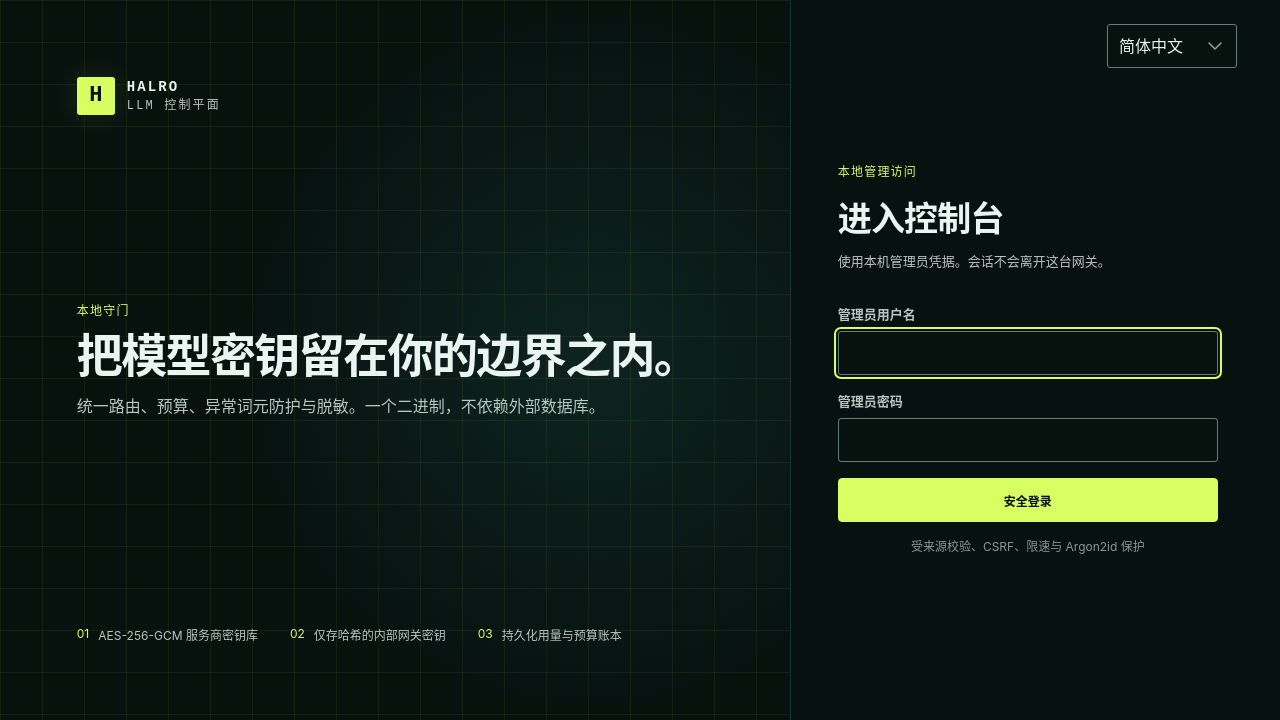
Scenario: Login › clears credentials for the MFA step and only returns after challenge cancellation succeeds
In the field labelled "管理员用户名": (1028, 353) top-left (838, 331), bottom-right (1218, 375), type "admin"
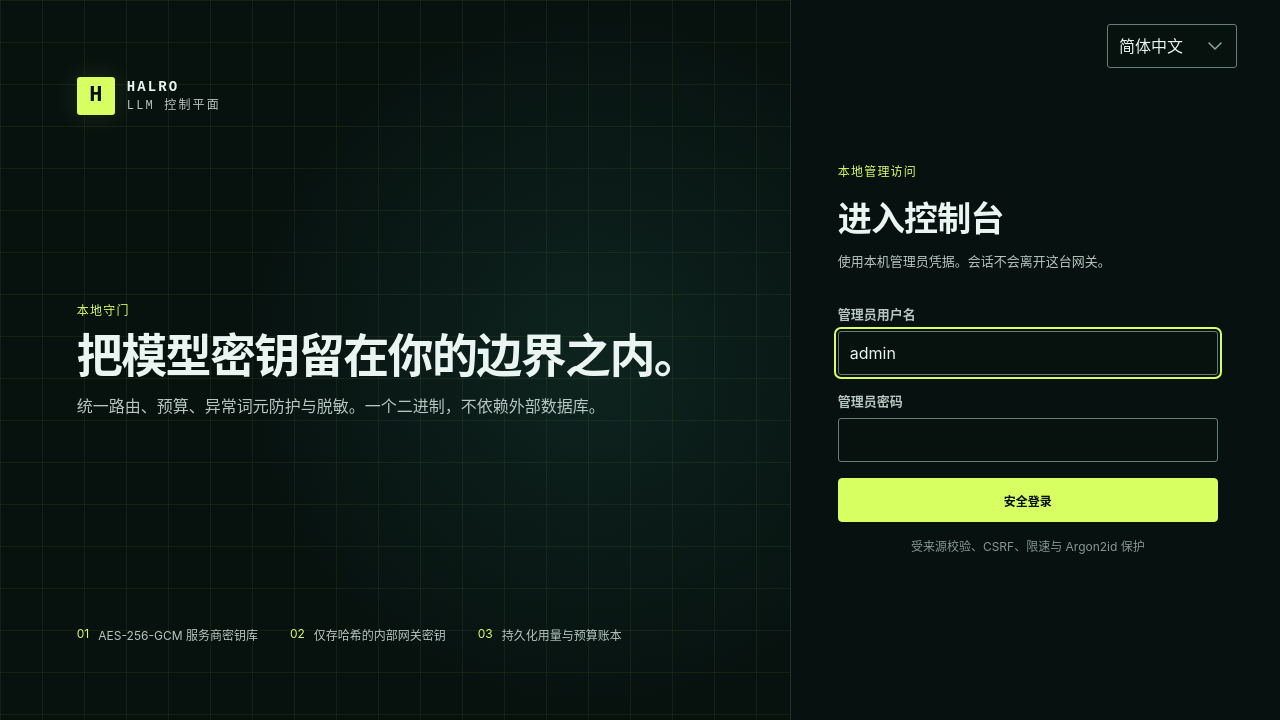
In the password field labelled "管理员密码": (1028, 440) top-left (838, 418), bottom-right (1218, 462), type "secret password"
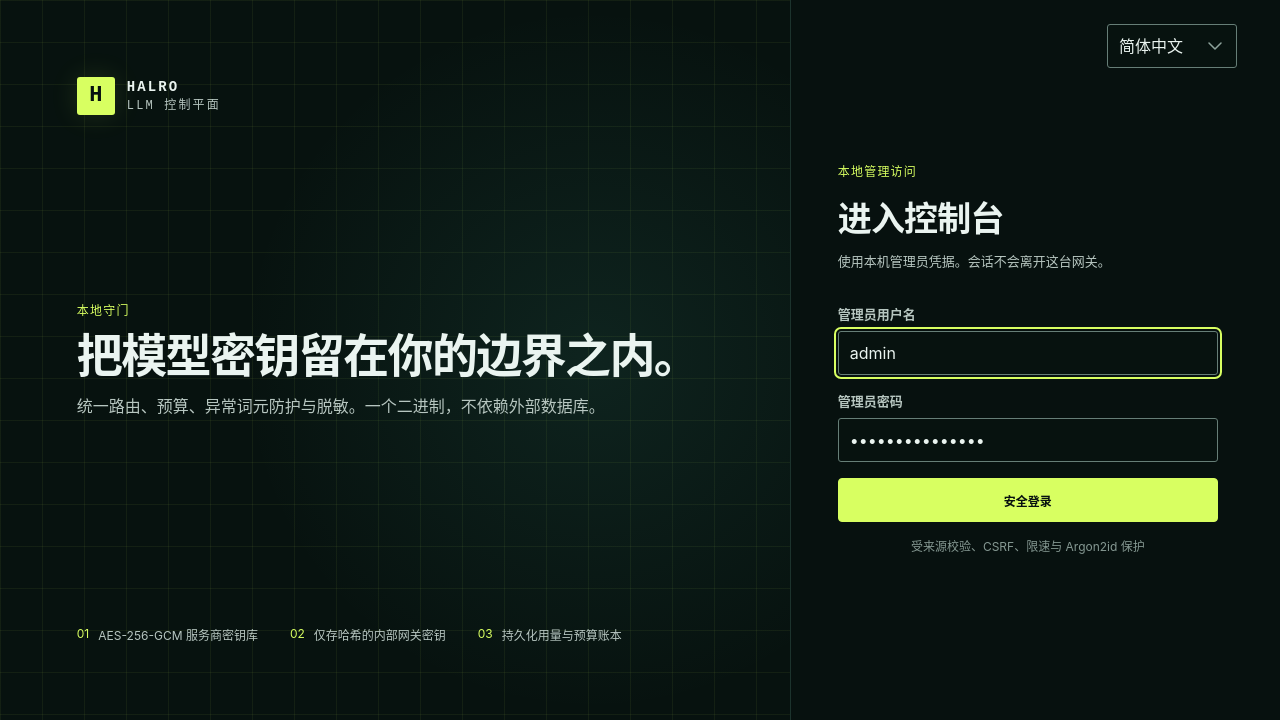
Click the button "安全登录": (1028, 500) top-left (838, 478), bottom-right (1218, 522)
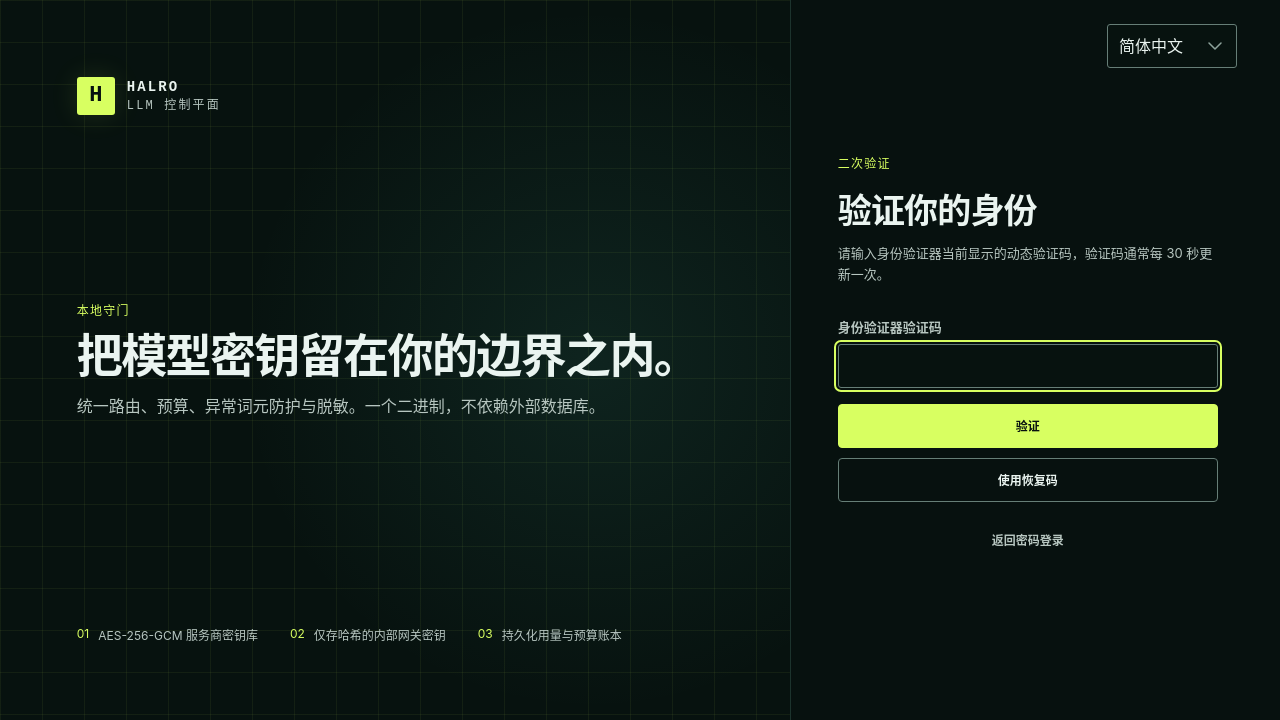
Expected: the heading "验证你的身份" is shown, top-left (838, 190), bottom-right (1037, 231)
Expected: the password field showing "secret password" is gone
Click the button "返回密码登录": (1028, 540) top-left (838, 518), bottom-right (1218, 562)
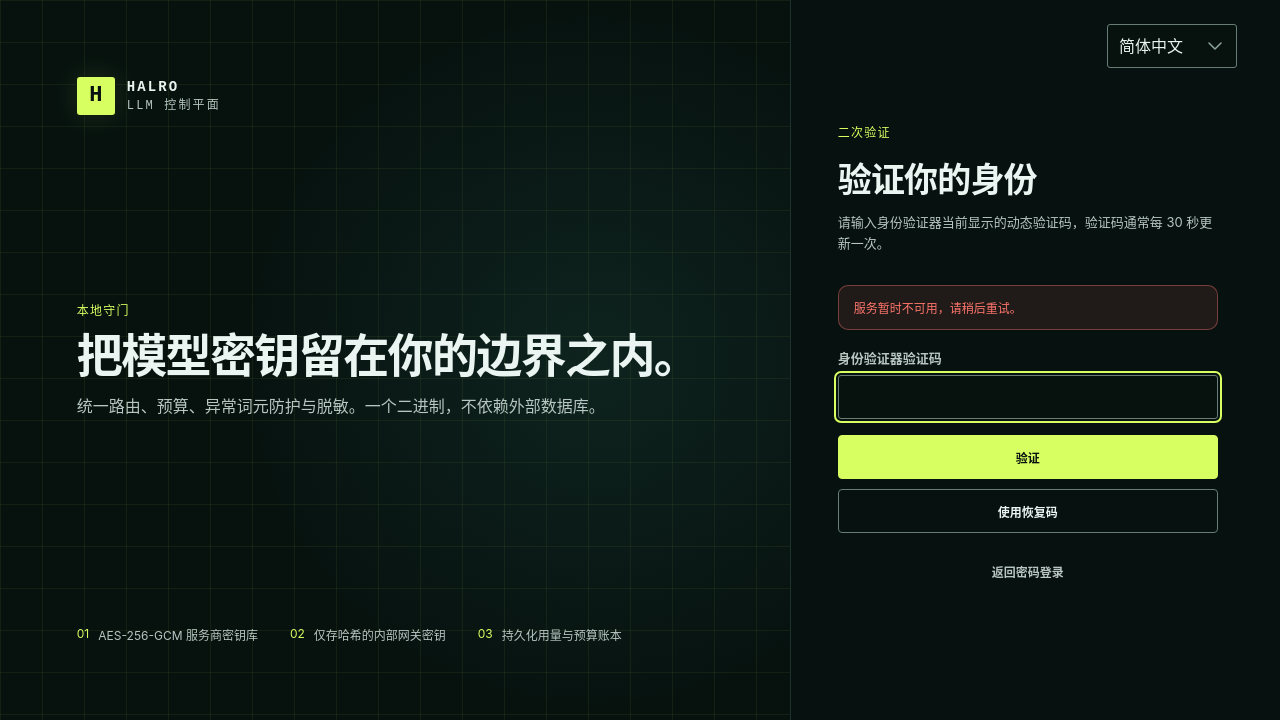
Expected: the heading "验证你的身份" is shown, top-left (838, 159), bottom-right (1037, 200)
Expected: the message "服务暂时不可用，请稍后重试。" is shown, top-left (838, 286), bottom-right (1218, 330)
Click the button "返回密码登录": (1028, 572) top-left (838, 550), bottom-right (1218, 594)
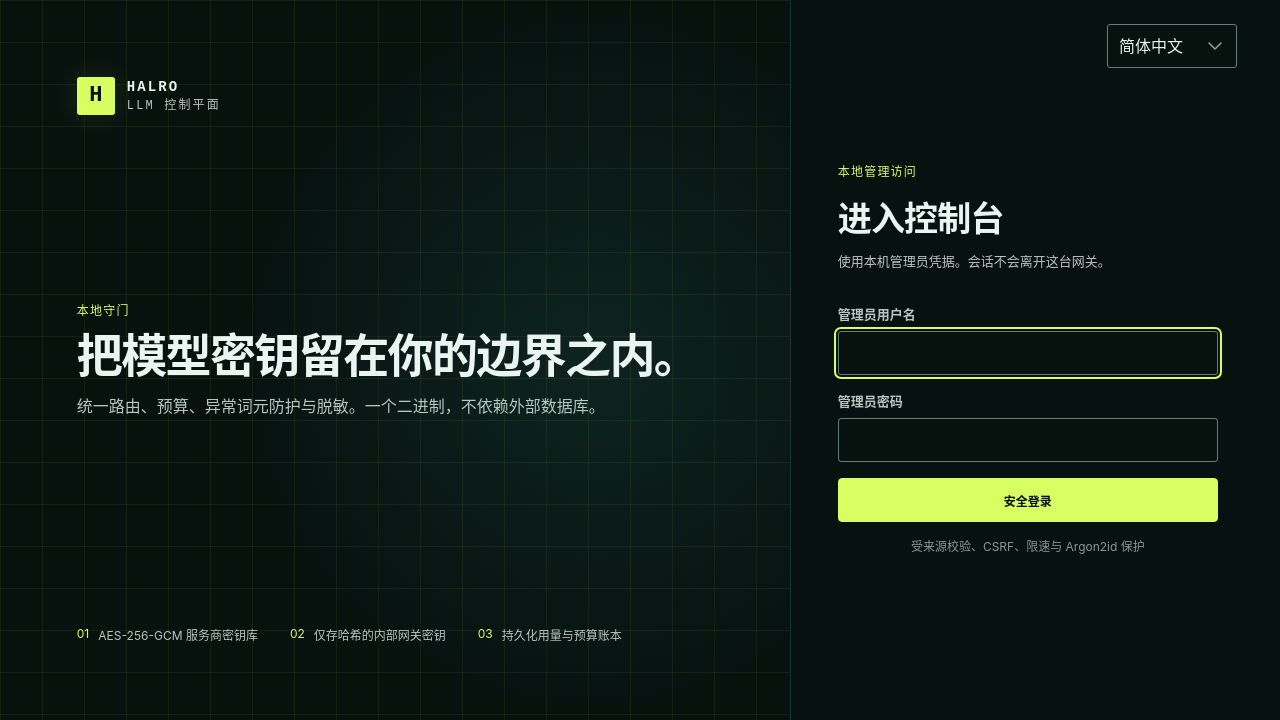
Expected: the heading "进入控制台" is shown, top-left (838, 198), bottom-right (1004, 239)
